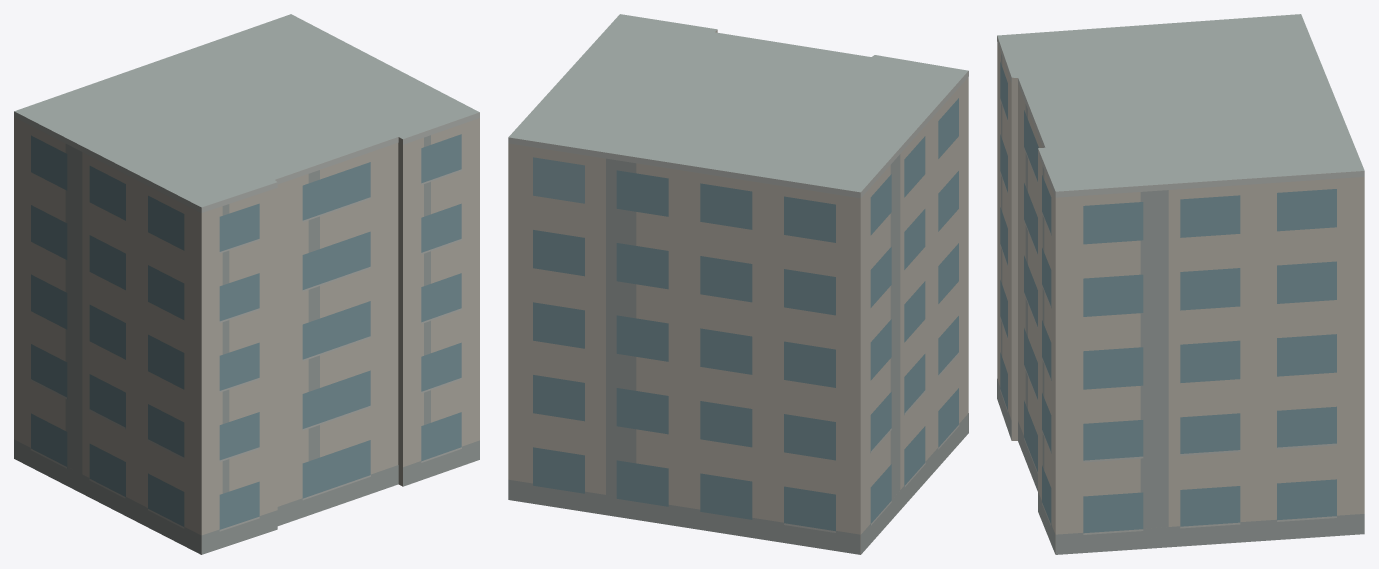
Rendered from survey-upis-32760588.glb.
3 views of the same model, side by side, from view 1: azimuth 30°, elevation 25°; view 2: azimuth 150°, elevation 25°; view 3: azimuth 270°, elevation 25° (orthographic). The views are drawn at different scales.
Visible parts, largest first — view 1: survey-upis-32760588.tmp; view 2: survey-upis-32760588.tmp; view 3: survey-upis-32760588.tmp.
Part boxes in pixels (x1=…): survey-upis-32760588.tmp: x1=14, y1=14, x2=479, y2=554; survey-upis-32760588.tmp: x1=508, y1=14, x2=968, y2=554; survey-upis-32760588.tmp: x1=997, y1=14, x2=1364, y2=554.
Bounding box in the file's own units: 15.54 × 14.8 × 13.59.
